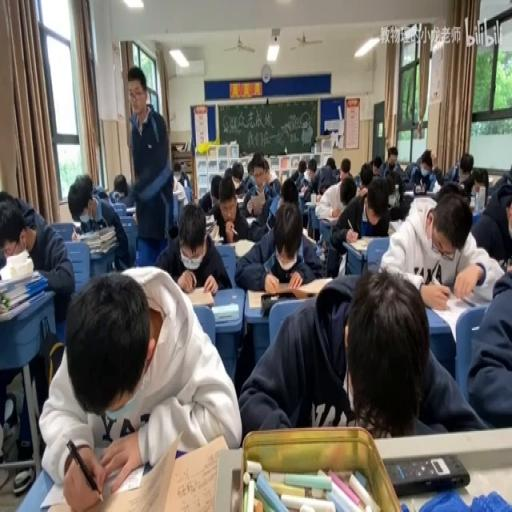calculator: (422, 282, 480, 340), (246, 280, 328, 309), (76, 223, 117, 255), (185, 286, 216, 307), (48, 222, 74, 243), (212, 302, 238, 322), (234, 236, 256, 256), (403, 189, 433, 201), (348, 238, 370, 252), (302, 228, 316, 248), (336, 252, 347, 277), (461, 294, 480, 308), (388, 219, 403, 235), (318, 212, 339, 222), (205, 216, 215, 235), (211, 233, 223, 245), (244, 214, 258, 224), (235, 192, 245, 202), (126, 205, 135, 215), (306, 198, 316, 206), (469, 196, 475, 209)
paper: (41, 264, 238, 506), (237, 262, 480, 434), (380, 188, 502, 304), (0, 191, 77, 327), (130, 68, 176, 266), (231, 196, 320, 289), (465, 256, 512, 428), (328, 173, 390, 276), (206, 174, 249, 248), (245, 151, 280, 213), (402, 146, 436, 192), (386, 171, 412, 219), (446, 149, 476, 189), (314, 155, 339, 195), (485, 162, 512, 196), (8, 194, 35, 228), (109, 172, 134, 206), (435, 182, 467, 205), (292, 158, 311, 192), (382, 146, 400, 178), (279, 176, 298, 202), (470, 166, 489, 190), (230, 160, 244, 190), (174, 162, 190, 188), (358, 162, 372, 188), (314, 234, 326, 264), (0, 189, 14, 209), (432, 164, 444, 186), (92, 184, 108, 200), (341, 189, 354, 206), (372, 154, 382, 176), (340, 158, 350, 176), (267, 168, 277, 185), (263, 158, 270, 175), (246, 161, 253, 176), (131, 209, 137, 222), (309, 168, 315, 176)
person: (385, 452, 470, 496)
